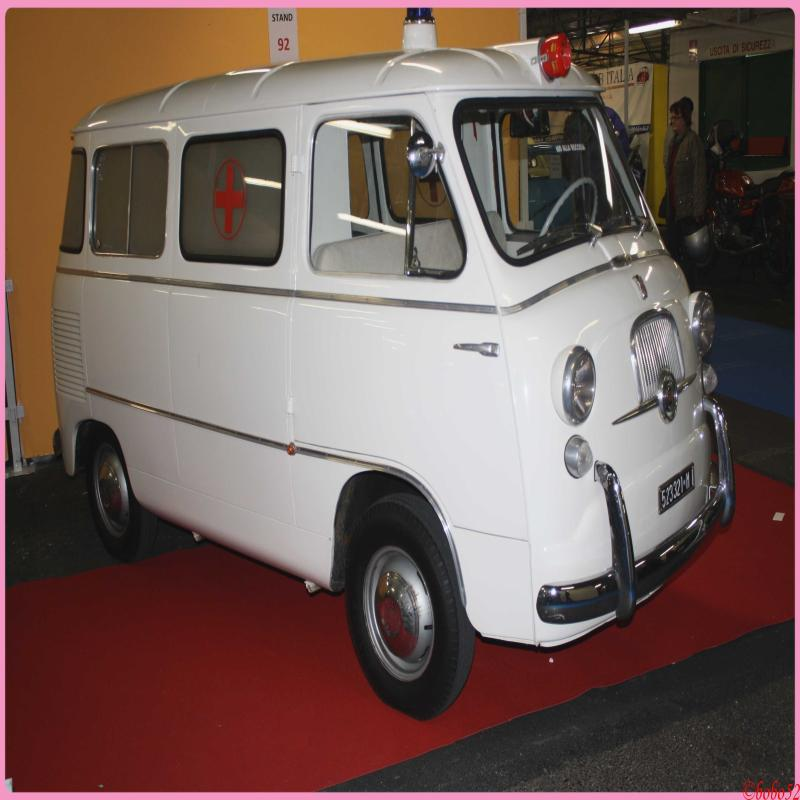AmbulanceSiren: (537, 34, 578, 95)
